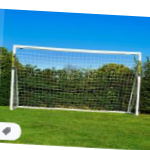goals: (7, 43, 142, 119)
